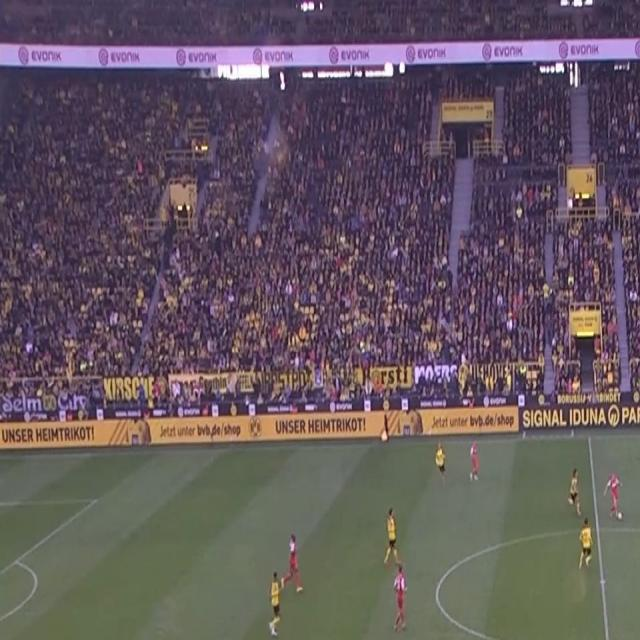ball: (617, 510, 624, 523)
